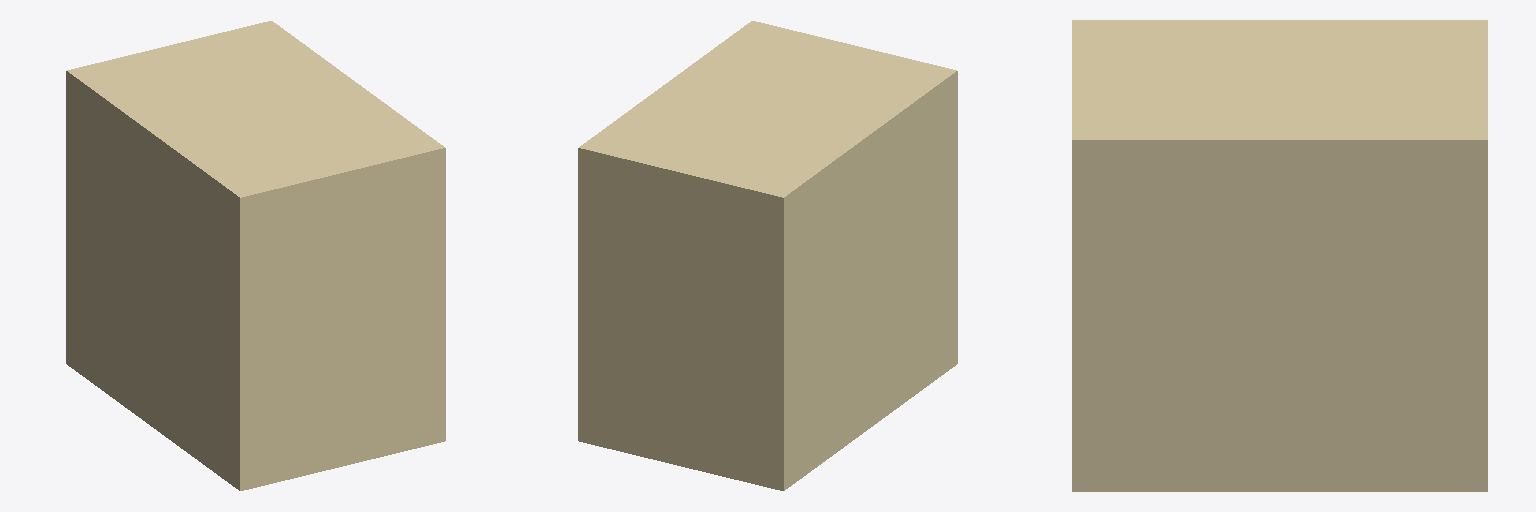
The robot description file, URDF, robot "box.urdf":
<?xml version="1.0" ?>
<robot name="box.urdf">
  <link name="baseLink">
    <contact>
      <lateral_friction value="1.0"/>
      <rolling_friction value="0.0001"/>
      <inertia_scaling value="3.0"/>
    </contact>
    <inertial>
      <origin rpy="0 0 0" xyz="0 0 0"/>
       <mass value="0.1"/>
       <inertia ixx="1" ixy="0" ixz="0" iyy="1" iyz="0" izz="1"/>
    </inertial>
    <visual>
      <origin rpy="0 0 0" xyz="0 0 0"/>
      <geometry>
        <!-- <box size="0.3 0.44 0.41"/> -->
        <mesh filename="box/box.obj" scale="0.3 0.44 0.41"/>
      </geometry>
      <material name="white">
        <color rgba="0.9 0.85 0.7 1"/>
      </material>
    </visual>
    <collision>
      <origin rpy="0 0 0" xyz="0 0 0"/>
      <geometry>
        <mesh filename="box/box.obj" scale="0.3 0.44 0.41"/>
	 	    <!-- <box size="0.3 0.44 0.41"/> -->
      </geometry>
    </collision>
  </link>
</robot>

--- What the picture shows (computed from the rendered views, not written in the file) ---
Views: 3 orthographic renders of the robot side by side, from view 1: azimuth 30°, elevation 25°; view 2: azimuth 150°, elevation 25°; view 3: azimuth 270°, elevation 25°.
Robot: box.urdf — 1 links, 0 joints (none); root link baseLink; default pose: every joint at zero.
Links seen in each view (by area): view 1: baseLink; view 2: baseLink; view 3: baseLink.
Link boxes in pixels (x1=…): baseLink: x1=66, y1=21, x2=445, y2=490; baseLink: x1=578, y1=21, x2=957, y2=490; baseLink: x1=1072, y1=20, x2=1487, y2=491.
Bounding box of the posed robot: 0.3 × 0.44 × 0.41 m (x, y, z).
Meshes: 1 distinct files referenced, 1 mesh visuals loaded (1 OBJ).
